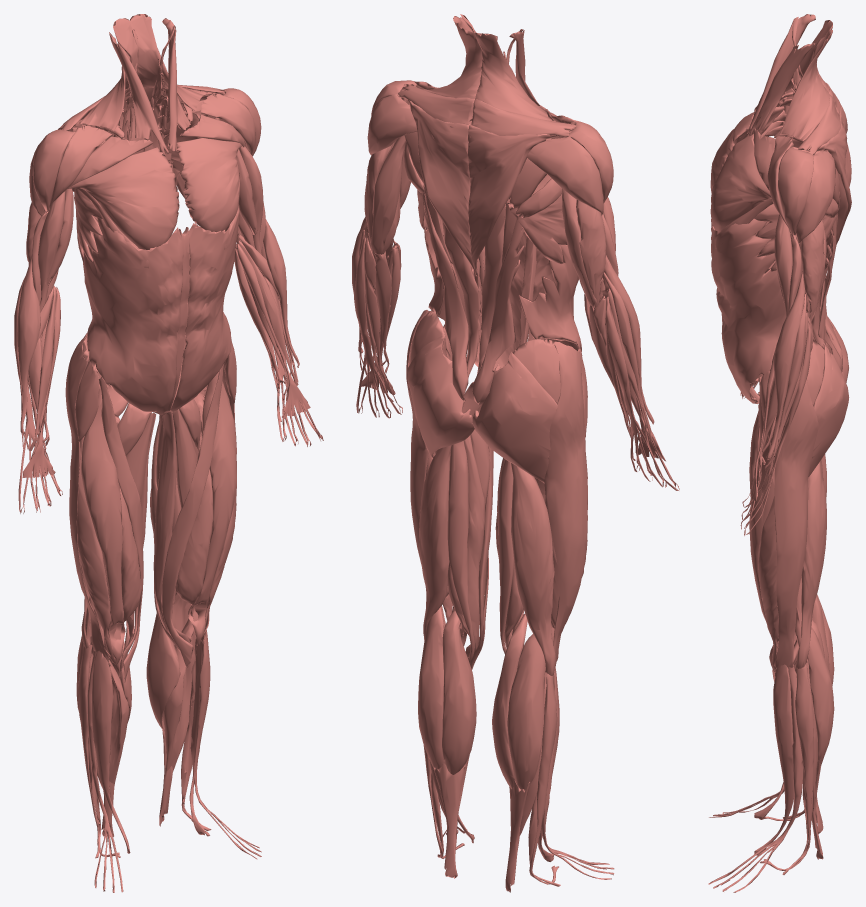
The model's file is muskeln.glb.
3 views of the same model, side by side, from view 1: azimuth 30°, elevation 25°; view 2: azimuth 150°, elevation 25°; view 3: azimuth 270°, elevation 25° (orthographic). The views are drawn at different scales.
Visible parts, largest first — view 1: aeusserer-schraeger-bauchmuskel-r, vierkoepfiger-oberschenkelmuskel-r, grosser-brustmuskel-r, vierkoepfiger-oberschenkelmuskel-l, aeusserer-schraeger-bauchmuskel-l, grosser-brustmuskel-l, unterarmbeuger-l, schenkelbindenspanner-r, schneidermuskel-l, deltamuskel-r, unterarmbeuger-r, schlanker-muskel-l (+32 smaller); view 2: schenkelbeuger-l, kapuzenmuskel-r, schenkelbeuger-r, schenkelbindenspanner-r, kapuzenmuskel-l, zwillingswadenmuskel-l, zwillingswadenmuskel-r, grosser-gesaessmuskel-r, rueckenstrecker-r, rueckenstrecker-l, grosser-gesaessmuskel-l, deltamuskel-r (+25 smaller); view 3: aeusserer-schraeger-bauchmuskel-l, schenkelbindenspanner-l, deltamuskel-l, kapuzenmuskel-l, grosser-brustmuskel-l, vierkoepfiger-oberschenkelmuskel-l, schenkelbeuger-l, unterarmstrecker-l, grosser-gesaessmuskel-l, wadenbeinmuskeln-l, vorderer-schienbeinmuskel-l, zwillingswadenmuskel-l (+20 smaller).
Boxes of the visible parts, x1,y1,x2,y2 form: aeusserer-schraeger-bauchmuskel-r: (83, 217, 183, 414); vierkoepfiger-oberschenkelmuskel-r: (77, 384, 141, 665); grosser-brustmuskel-r: (67, 136, 179, 268); vierkoepfiger-oberschenkelmuskel-l: (175, 372, 236, 645); aeusserer-schraeger-bauchmuskel-l: (169, 204, 239, 411); grosser-brustmuskel-l: (176, 115, 245, 249); unterarmbeuger-l: (234, 235, 323, 446); schenkelbindenspanner-r: (65, 335, 111, 666); schneidermuskel-l: (162, 363, 224, 667); deltamuskel-r: (29, 125, 112, 216); unterarmbeuger-r: (20, 285, 62, 513); schlanker-muskel-l: (154, 409, 191, 643); schenkelbeuger-l: (419, 435, 485, 662); kapuzenmuskel-r: (467, 33, 575, 276); schenkelbeuger-r: (495, 458, 555, 675); schenkelbindenspanner-r: (544, 341, 587, 666); kapuzenmuskel-l: (398, 26, 482, 276); zwillingswadenmuskel-l: (418, 607, 476, 774); zwillingswadenmuskel-r: (492, 613, 545, 790); grosser-gesaessmuskel-r: (472, 351, 557, 483); rueckenstrecker-r: (472, 29, 524, 405); rueckenstrecker-l: (422, 14, 482, 401); grosser-gesaessmuskel-l: (407, 335, 474, 457); deltamuskel-r: (526, 112, 613, 215); aeusserer-schraeger-bauchmuskel-l: (711, 218, 785, 403); schenkelbindenspanner-l: (760, 370, 818, 676); deltamuskel-l: (767, 136, 835, 243); kapuzenmuskel-l: (779, 30, 851, 244); grosser-brustmuskel-l: (710, 128, 775, 248); vierkoepfiger-oberschenkelmuskel-l: (749, 436, 778, 672); schenkelbeuger-l: (793, 460, 826, 668); unterarmstrecker-l: (744, 294, 813, 534); grosser-gesaessmuskel-l: (808, 344, 849, 476); wadenbeinmuskeln-l: (760, 663, 813, 874); vorderer-schienbeinmuskel-l: (754, 664, 794, 855); zwillingswadenmuskel-l: (793, 620, 834, 766).
Size of the model in its own units: 0.611 by 1.57 by 0.2482.
